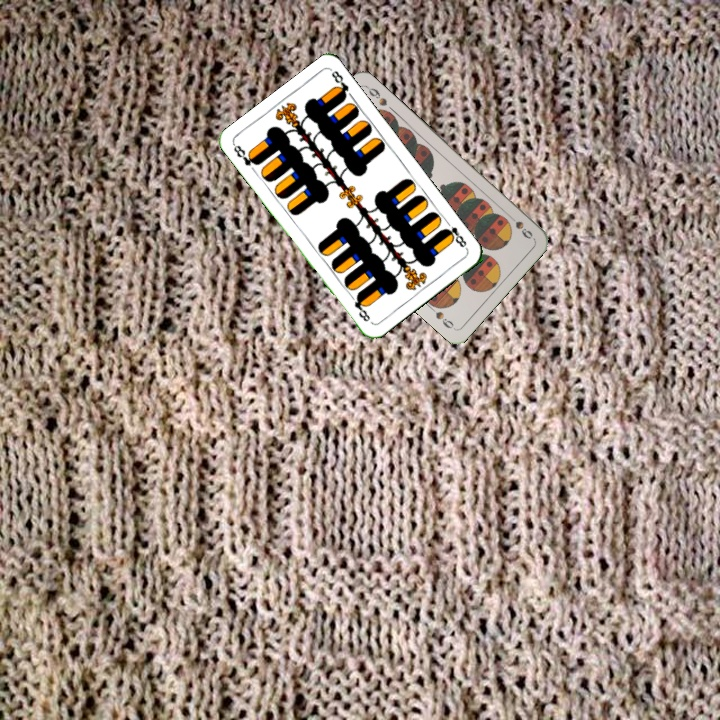E8: (439, 216, 470, 252), (229, 141, 261, 168)
S9: (503, 209, 536, 241)
